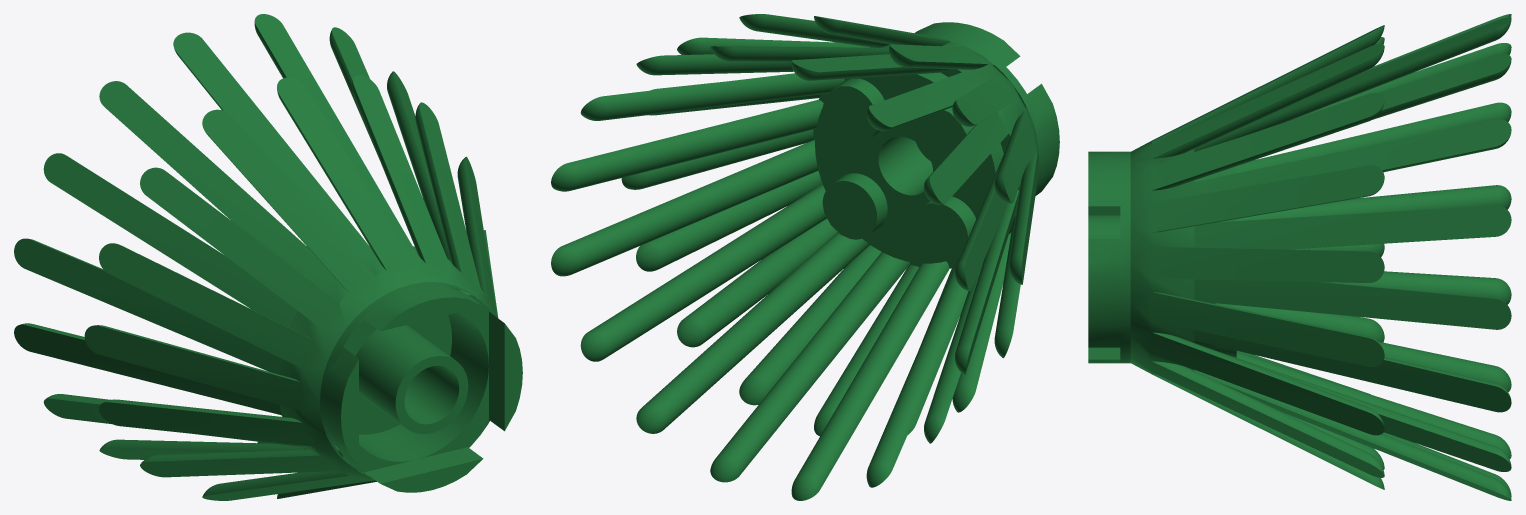
The model's file is planta2Ent.dae.
3 renders of one model, left to right at view 1: azimuth 30°, elevation 25°; view 2: azimuth 150°, elevation 25°; view 3: azimuth 270°, elevation 25°, orthographic.
Visible parts, largest first — view 1: Inner-Node-UntitledModel_dot_io-0; view 2: Inner-Node-UntitledModel_dot_io-0; view 3: Inner-Node-UntitledModel_dot_io-0.
Boxes of the visible parts, x1,y1,x2,y2 form: Inner-Node-UntitledModel_dot_io-0: (14,14,522,500); Inner-Node-UntitledModel_dot_io-0: (551,14,1059,500); Inner-Node-UntitledModel_dot_io-0: (1088,14,1511,500).
Bounding box in the file's own units: 91.2 × 91.23 × 79.78.
